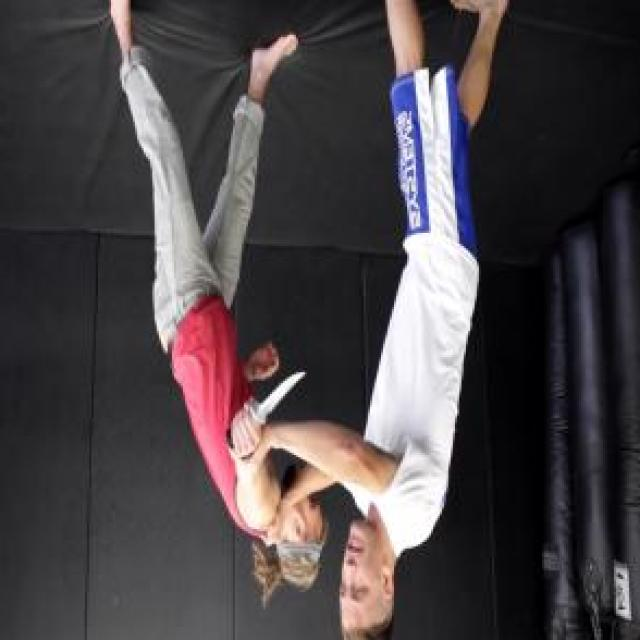knife: (218, 366, 310, 464)
